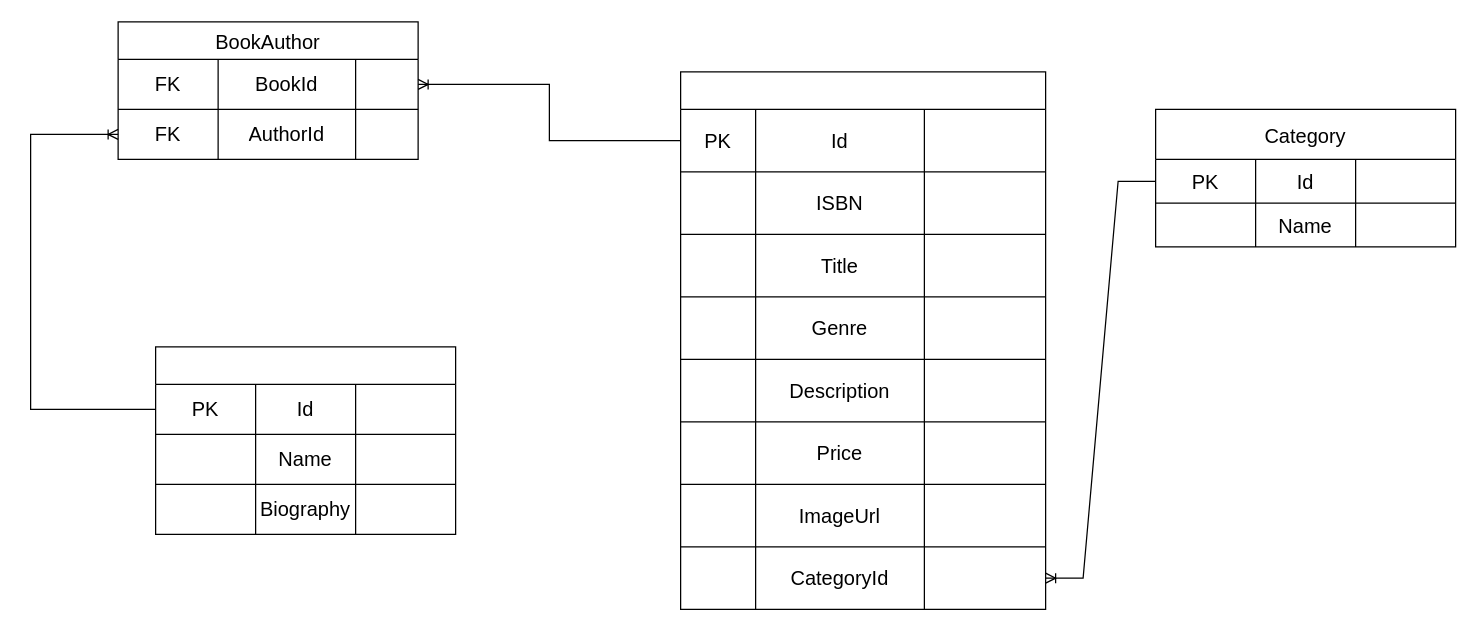
Image size: 1478x631. Some labels were removed from this diagram. The box of each missing label's shape, as (x1, y1, x2, y2) in pixels:
Author: (154, 346, 456, 534)
Book: (679, 71, 1046, 609)
